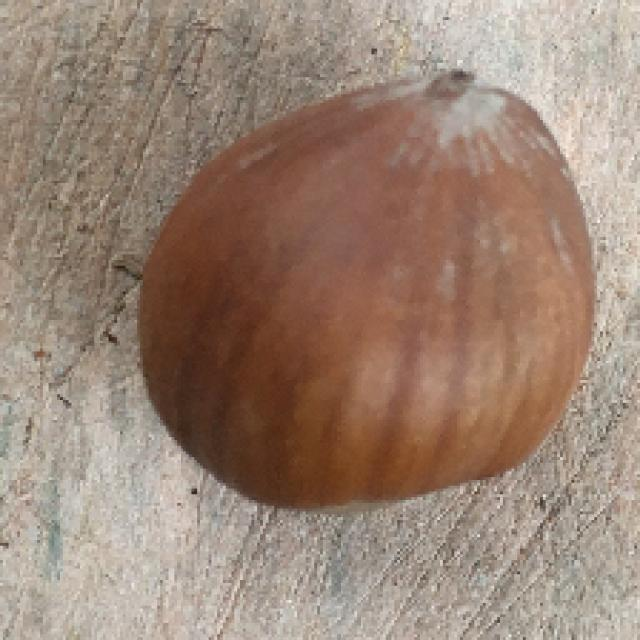qualityHazelnut: (136, 73, 595, 513)
